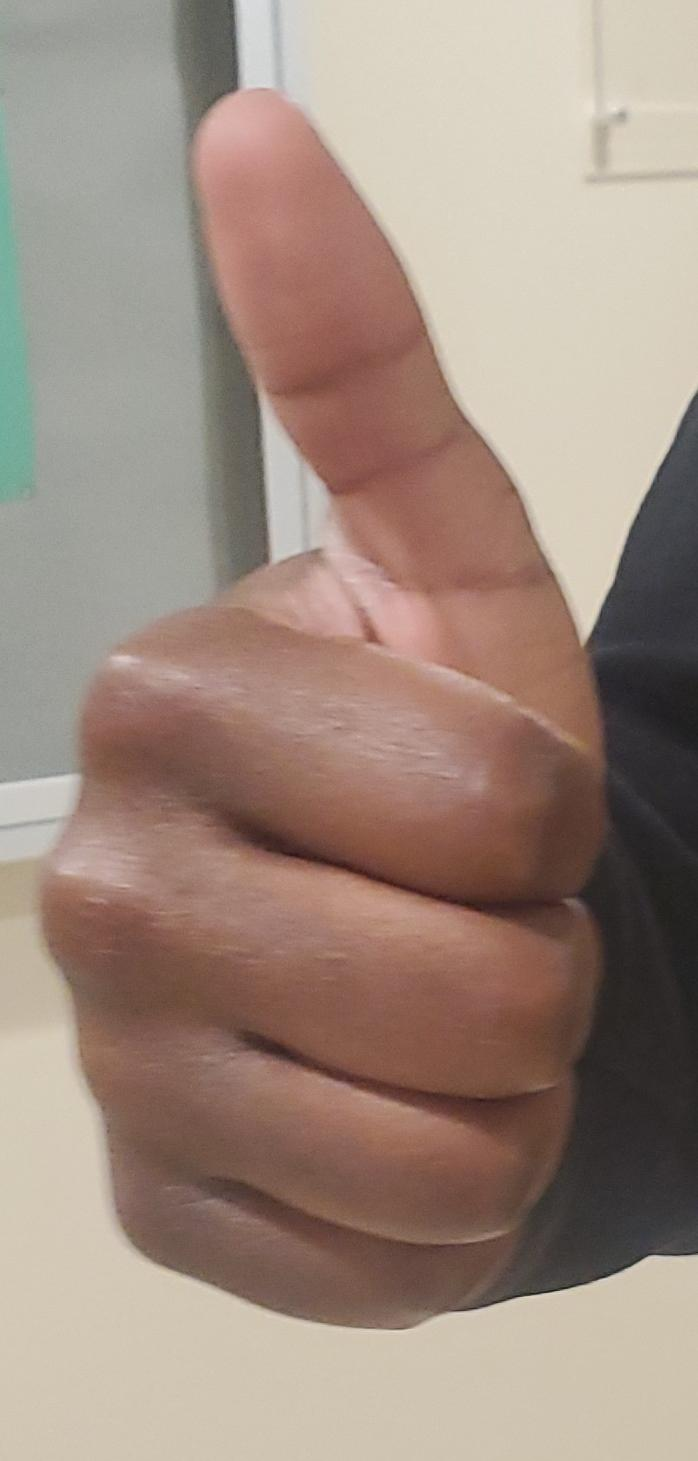up: (0, 1, 698, 1461)
